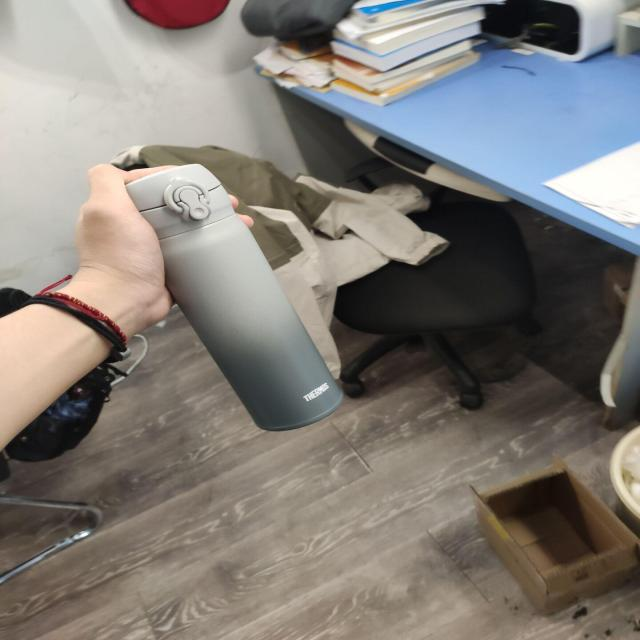bottle: (118, 142, 354, 444)
